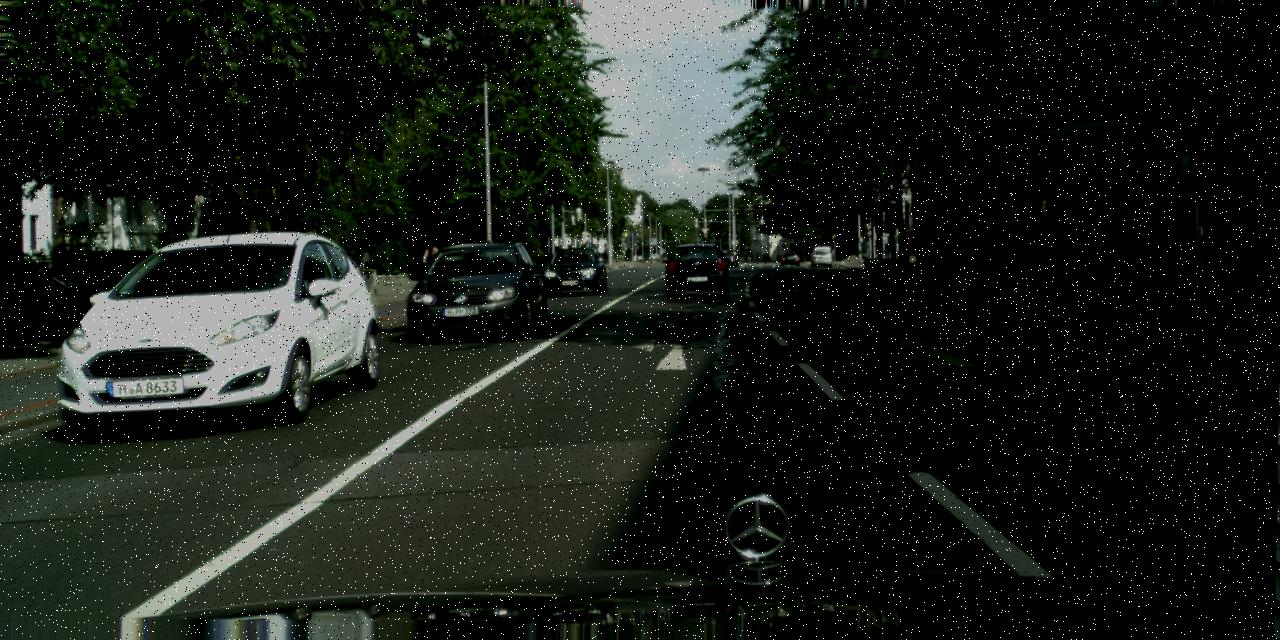ped: (426, 242, 440, 276)
